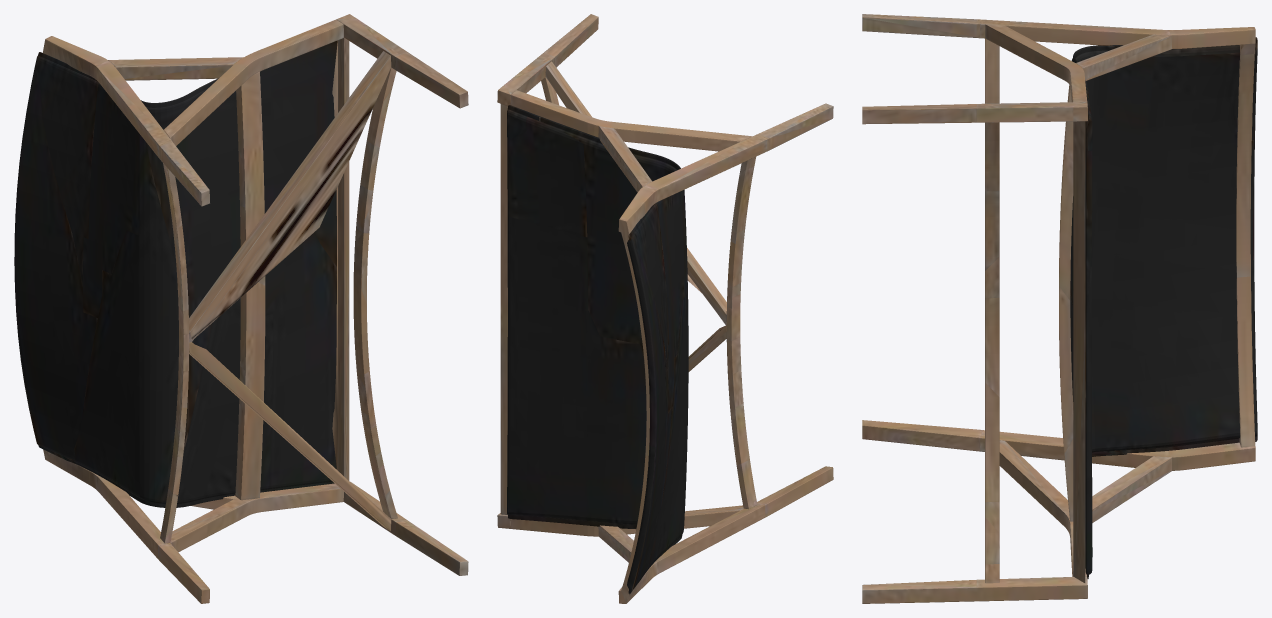
The model's file is chair_armchair_1.glb.
3 renders of one model, left to right at view 1: azimuth 30°, elevation 25°; view 2: azimuth 150°, elevation 25°; view 3: azimuth 270°, elevation 25°, orthographic. The views are drawn at different scales.
Parts seen in each view (by area): view 1: chair_armchair_1; view 2: chair_armchair_1; view 3: chair_armchair_1.
Boxes of the visible parts, <box> form: chair_armchair_1: <box>14,14,468,603</box>; chair_armchair_1: <box>497,14,833,603</box>; chair_armchair_1: <box>862,14,1257,603</box>.
Size of the model in its own units: 1.01 by 1.74 by 1.26.
1 material, 1 textured.
